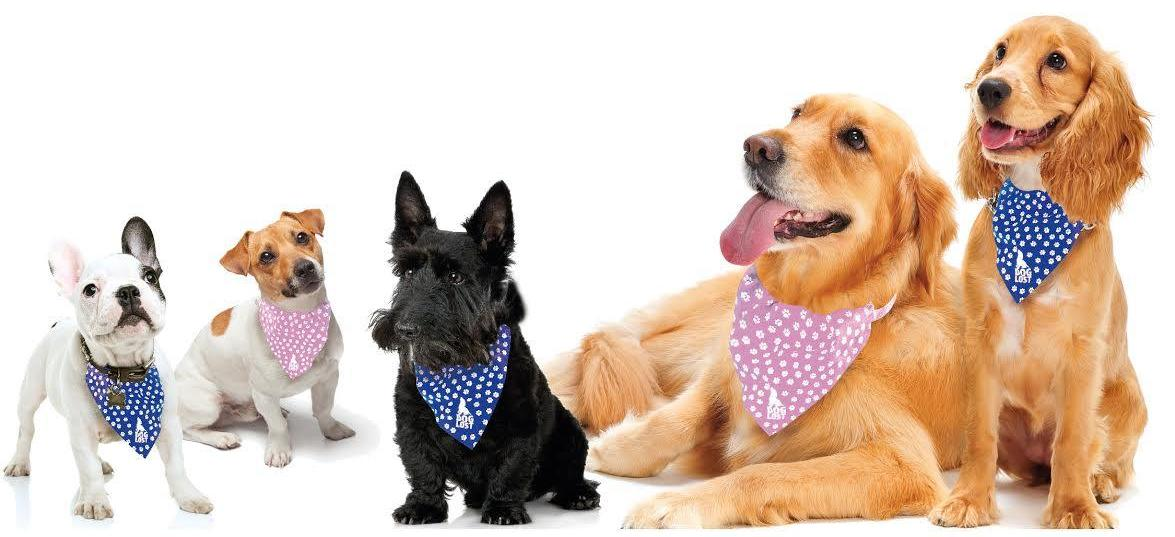dog: (586, 103, 959, 515), (954, 16, 1148, 526), (372, 177, 588, 520), (26, 216, 196, 519), (180, 204, 357, 471)
